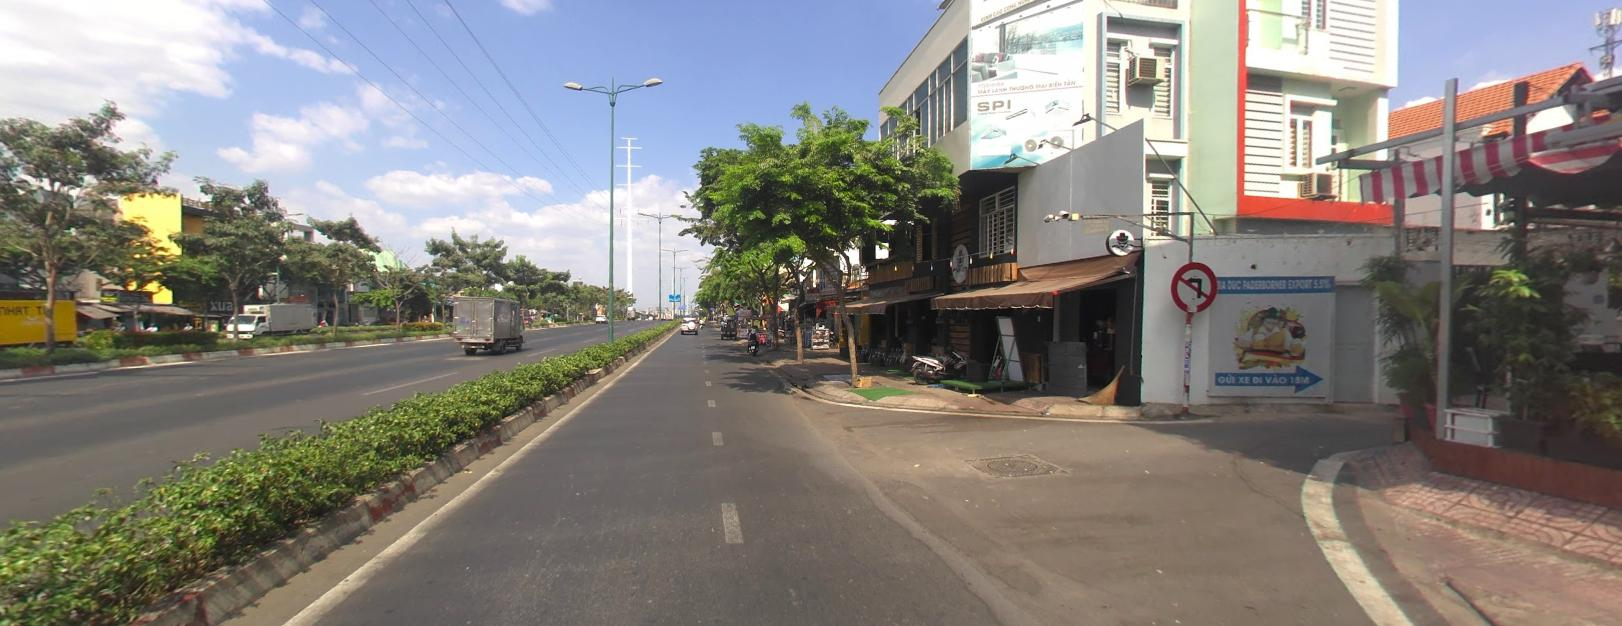Cam re: (1168, 259, 1216, 312)
